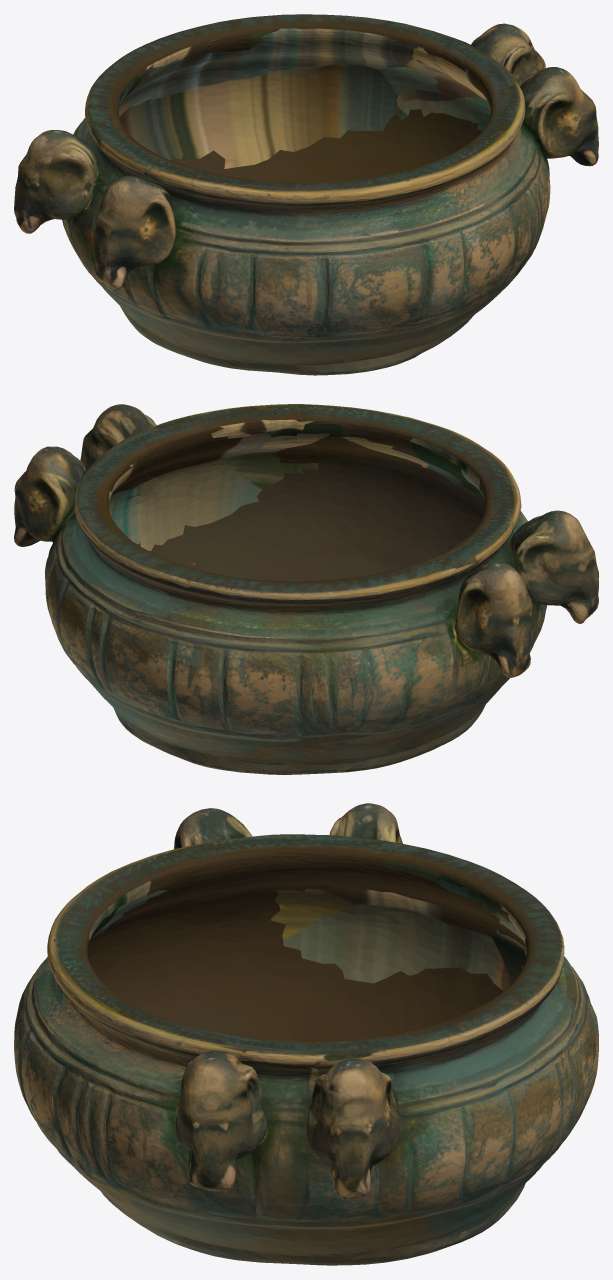
Rendered from ritual-bronze-urli-bowl-optimized.glb.
3 renders of one model, top to bottom at view 1: azimuth 30°, elevation 25°; view 2: azimuth 150°, elevation 25°; view 3: azimuth 270°, elevation 25°, orthographic. The views are drawn at different scales.
Visible parts, largest first — view 1: eea5672c-1a78-4244-9c8f-3b9d99cb06e8_texturing.obj; view 2: eea5672c-1a78-4244-9c8f-3b9d99cb06e8_texturing.obj; view 3: eea5672c-1a78-4244-9c8f-3b9d99cb06e8_texturing.obj.
Boxes of the visible parts, <box> form: eea5672c-1a78-4244-9c8f-3b9d99cb06e8_texturing.obj: <box>14,14,598,375</box>; eea5672c-1a78-4244-9c8f-3b9d99cb06e8_texturing.obj: <box>14,404,598,774</box>; eea5672c-1a78-4244-9c8f-3b9d99cb06e8_texturing.obj: <box>14,803,598,1265</box>.
Bounding box in the file's own units: 1.4 × 0.5523 × 1.16.
Materials: 1 (1 with a texture image).
